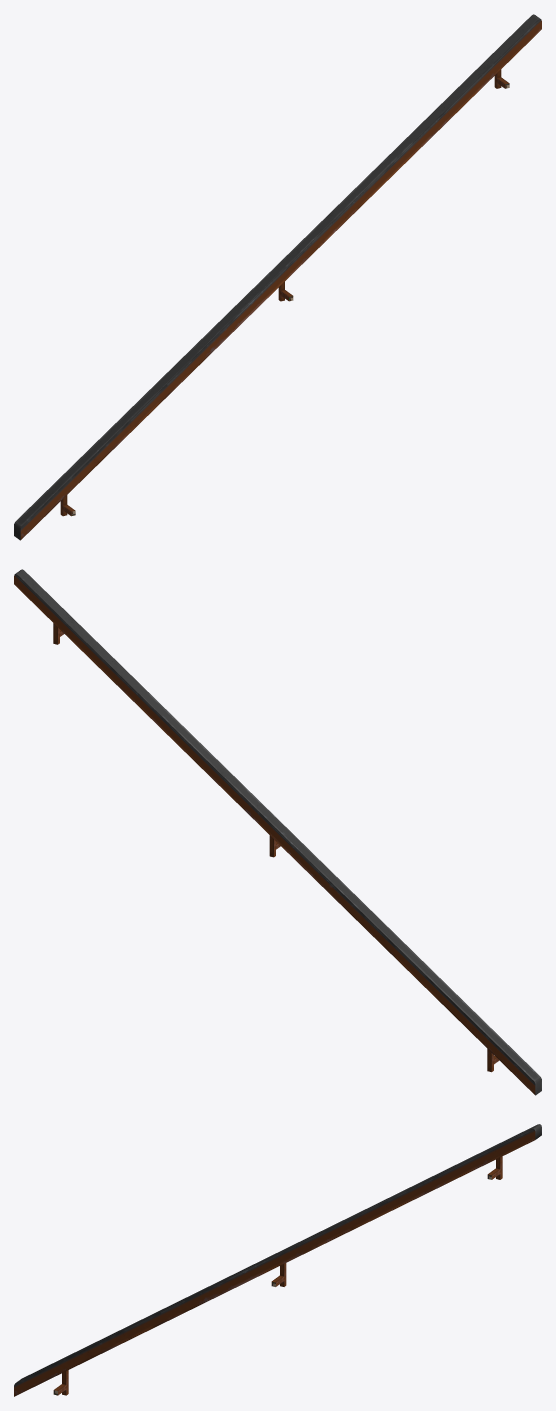
Rendered from HH_Handrail.fbx.
The picture shows the model from 3 angles, top to bottom: view 1: azimuth 30°, elevation 25°; view 2: azimuth 150°, elevation 25°; view 3: azimuth 330°, elevation 25°; orthographic projection.
Parts seen in each view (by area): view 1: HH_Handrail; view 2: HH_Handrail; view 3: HH_Handrail.
Part boxes in pixels (box(x1,y1,x2,y2)): HH_Handrail: box(14, 14, 541, 540); HH_Handrail: box(14, 569, 541, 1095); HH_Handrail: box(14, 1124, 541, 1396).
Size of the model in its own units: 287 by 208 by 11.47.
